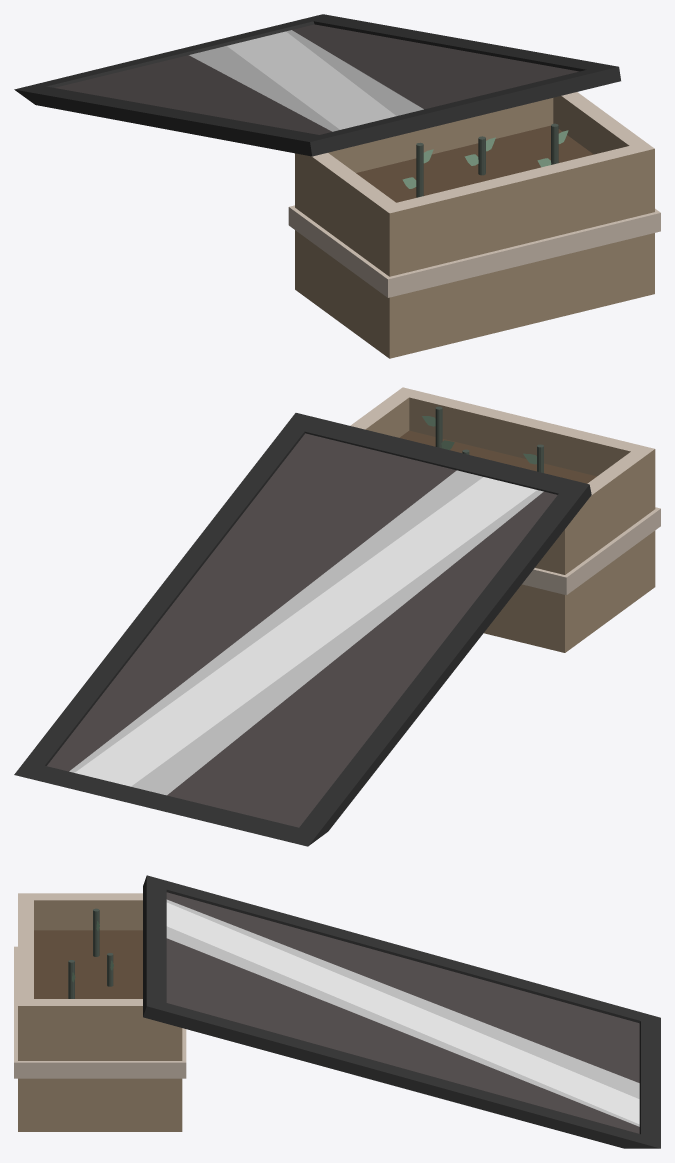
The model's file is Rampa 2.fbx.
The picture shows the model from 3 angles, top to bottom: view 1: azimuth 30°, elevation 25°; view 2: azimuth 150°, elevation 25°; view 3: azimuth 270°, elevation 25°; orthographic projection. The views are drawn at different scales.
Parts seen in each view (by area): view 1: Maseta_sola_2, Pantalla_Rota1; view 2: Pantalla_Rota1, Maseta_sola_2; view 3: Pantalla_Rota1, Maseta_sola_2.
Boxes of the visible parts, left/top/right/bottom form: Maseta_sola_2: left=288, top=92, right=660, bottom=358; Pantalla_Rota1: left=14, top=14, right=620, bottom=156; Pantalla_Rota1: left=14, top=413, right=591, bottom=846; Maseta_sola_2: left=350, top=387, right=660, bottom=652; Pantalla_Rota1: left=143, top=875, right=660, bottom=1148; Maseta_sola_2: left=14, top=893, right=186, bottom=1131.
Bounding box in the file's own units: 3.19 × 1.62 × 6.65.
